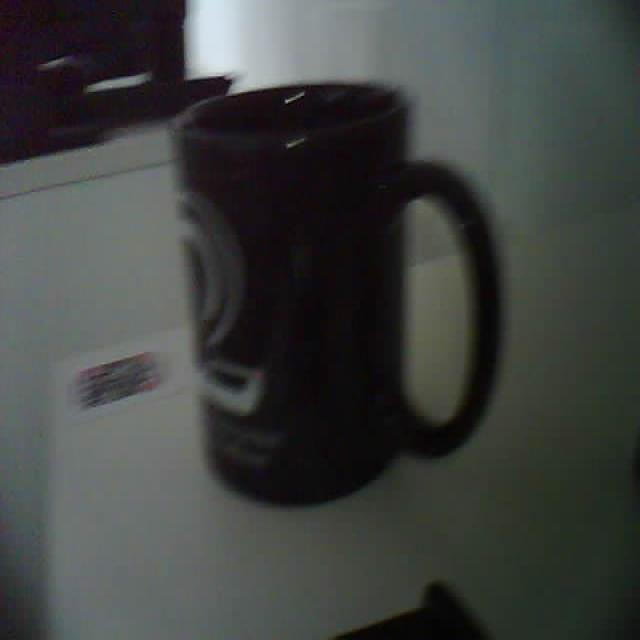caneca: (173, 83, 499, 501)
